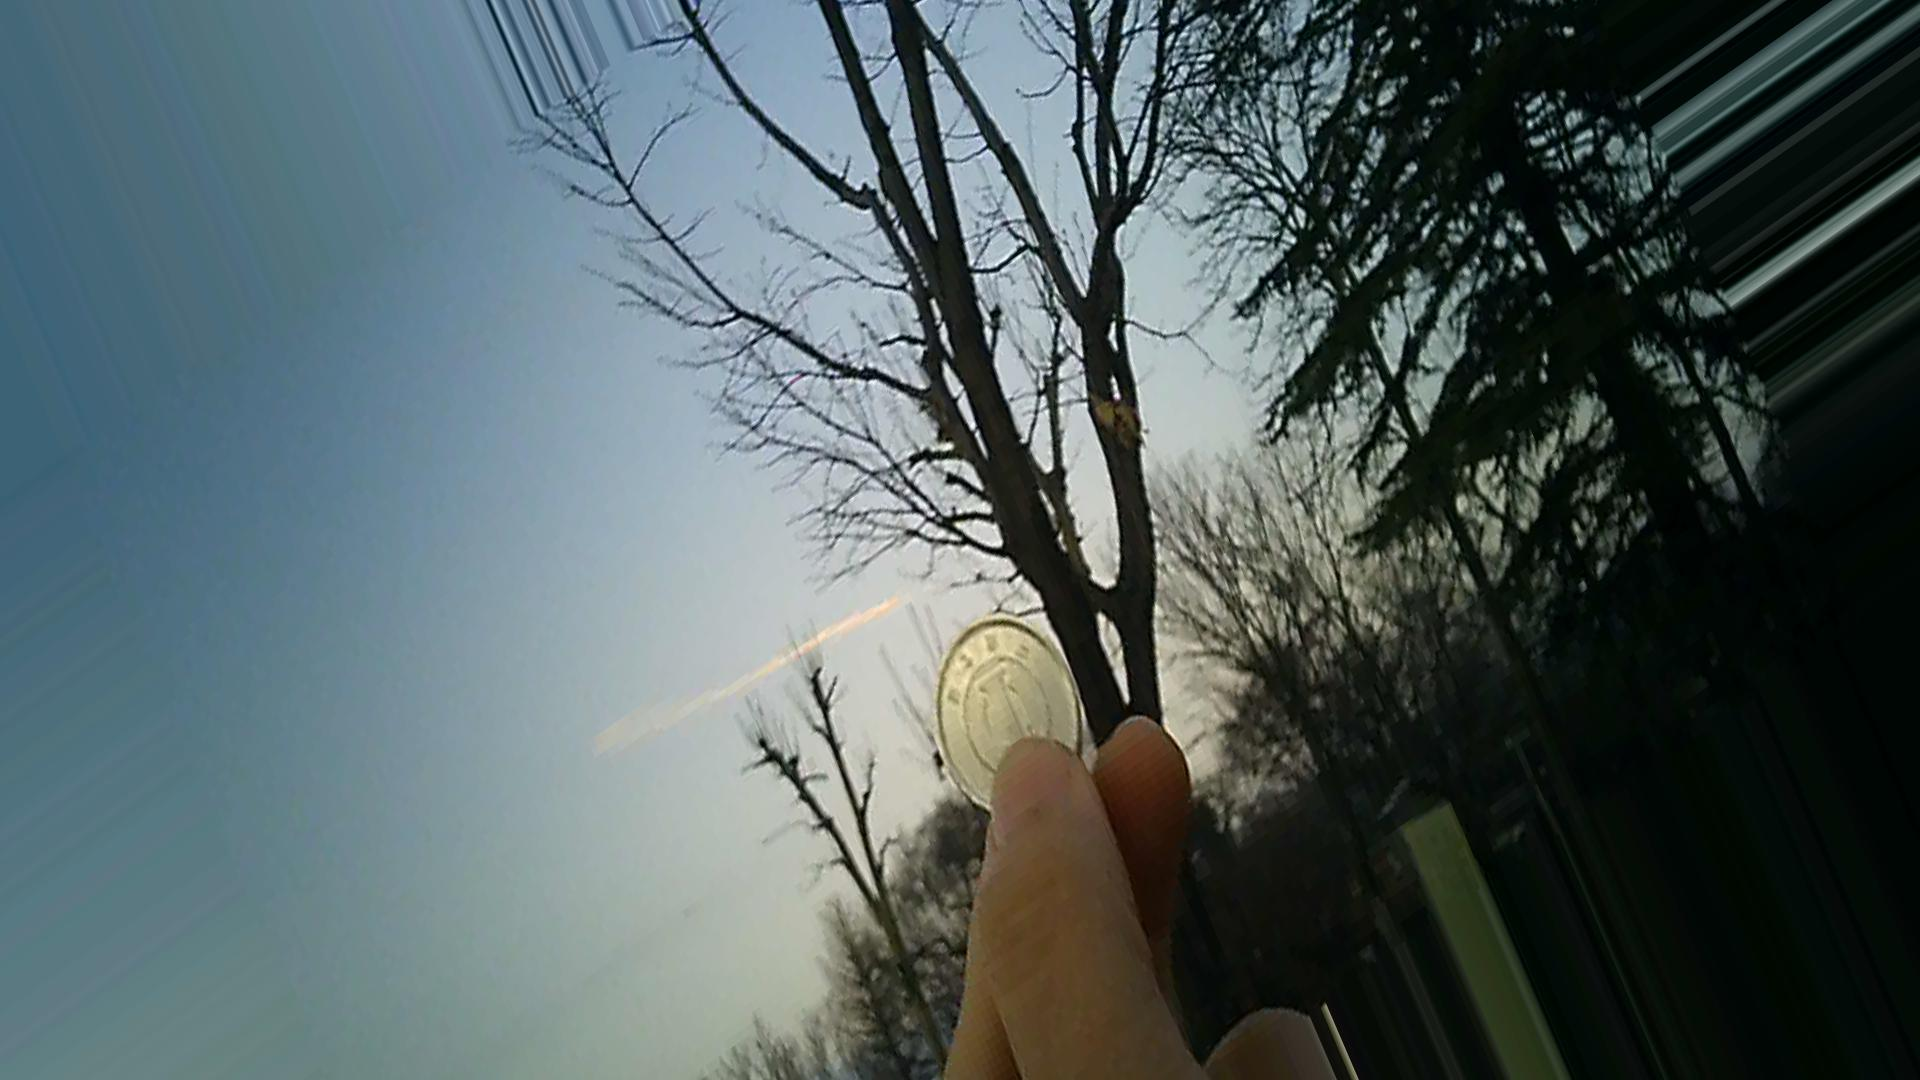1 Yen: (931, 608, 1096, 799)
